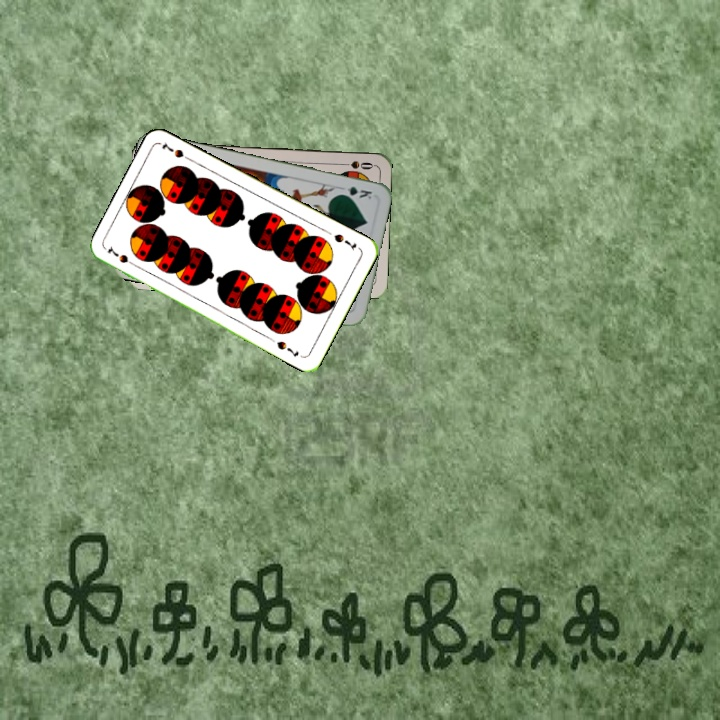GK: (335, 182, 375, 202)
S7: (103, 243, 140, 270), (330, 230, 359, 253)
SO: (335, 157, 376, 172)
